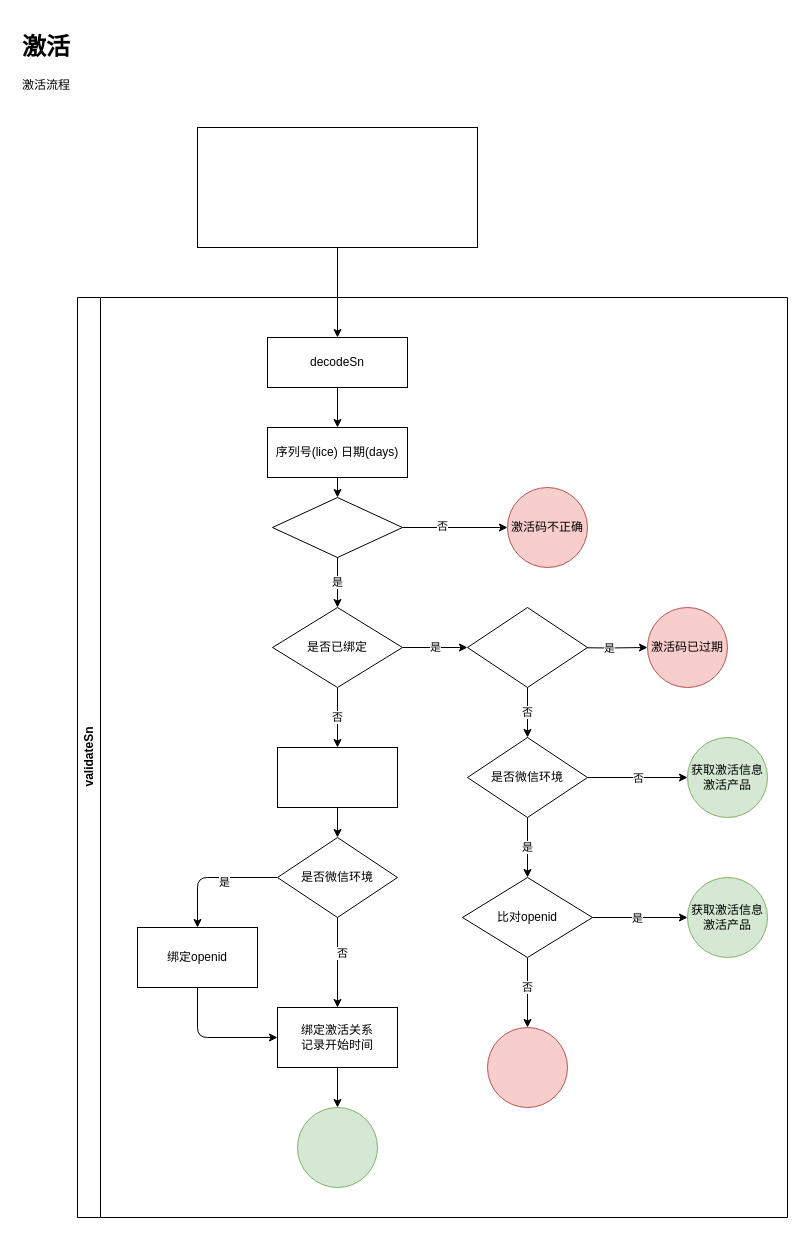
Image size: 805x1235. Some labels were removed from this diagram. Here are the shapes that lost their labels. From the top down, the centre of each, then its label:
At point (337, 187): "用户名、激活码".
At point (337, 527): "validateLicense 验证合法".
At point (527, 647): "获取绑定时间 检查是否过期".
At point (337, 777): "创建memberId(md5)".
At point (527, 1067): "激活码 仅限本人 使用".
At point (337, 1147): "激活产品".
